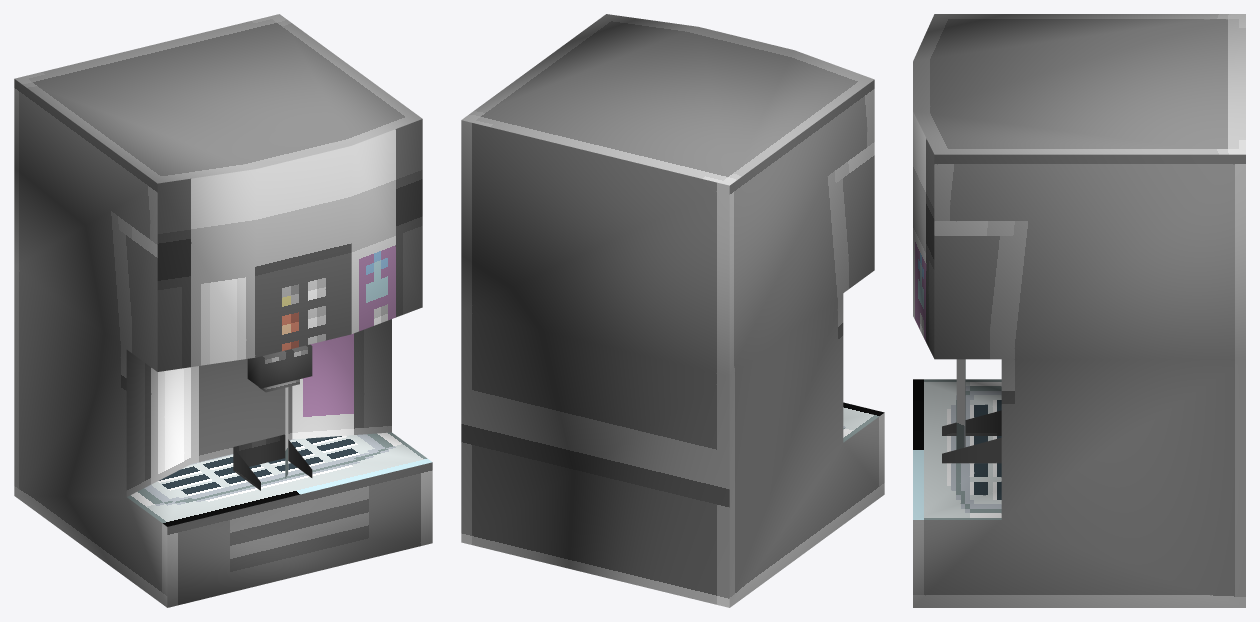
The picture shows the model from 3 angles, left to right: view 1: azimuth 30°, elevation 25°; view 2: azimuth 150°, elevation 25°; view 3: azimuth 270°, elevation 25°; orthographic projection. The views are drawn at different scales.
Parts seen in each view (by area): view 1: 3789kg_sh1_12; view 2: 3789kg_sh1_12; view 3: 3789kg_sh1_12.
Part boxes in pixels (x1,y1,x2,y2): 3789kg_sh1_12: (14, 14, 432, 607); 3789kg_sh1_12: (461, 14, 884, 607); 3789kg_sh1_12: (913, 14, 1245, 607).
Size of the model in its own units: 0.6333 by 0.952 by 0.6333.
Materials: 5 (5 with a texture image).
